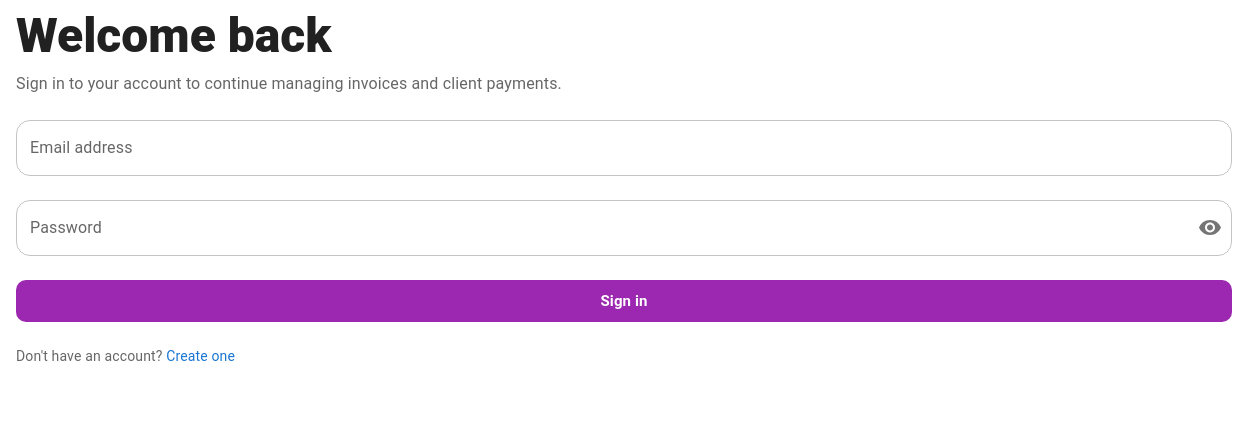
Test: Login page › shows validation errors and prevents submit when password is shorter than 8 characters
In the password field labelled "Password": (599, 228) [16, 200, 1182, 256], type "12345"
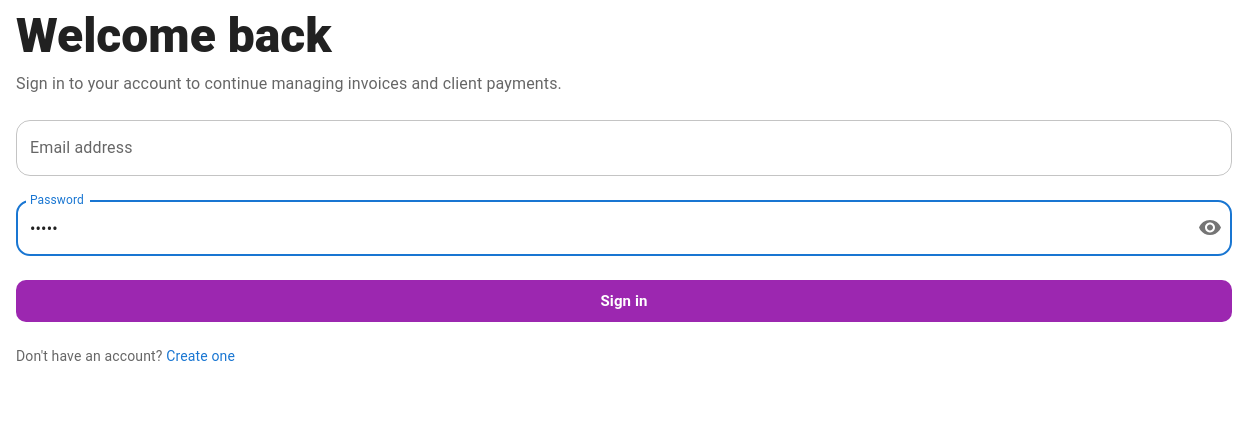
Click the button "Sign in": (624, 301) [16, 280, 1232, 322]
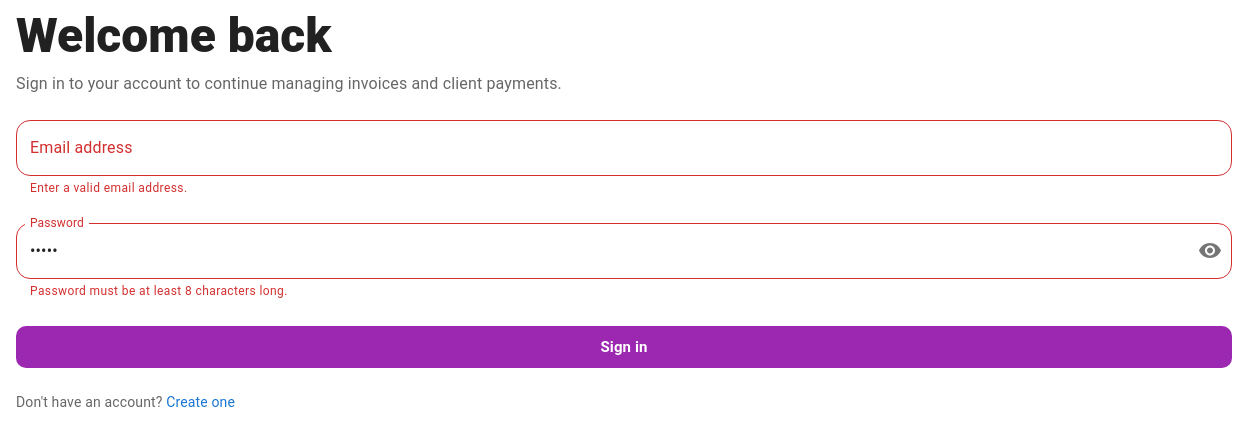
Now the text "Enter a valid email address." is shown, box [30, 181, 188, 195]
Now the text "Password must be at least 8 characters long." is shown, box [30, 284, 288, 298]
